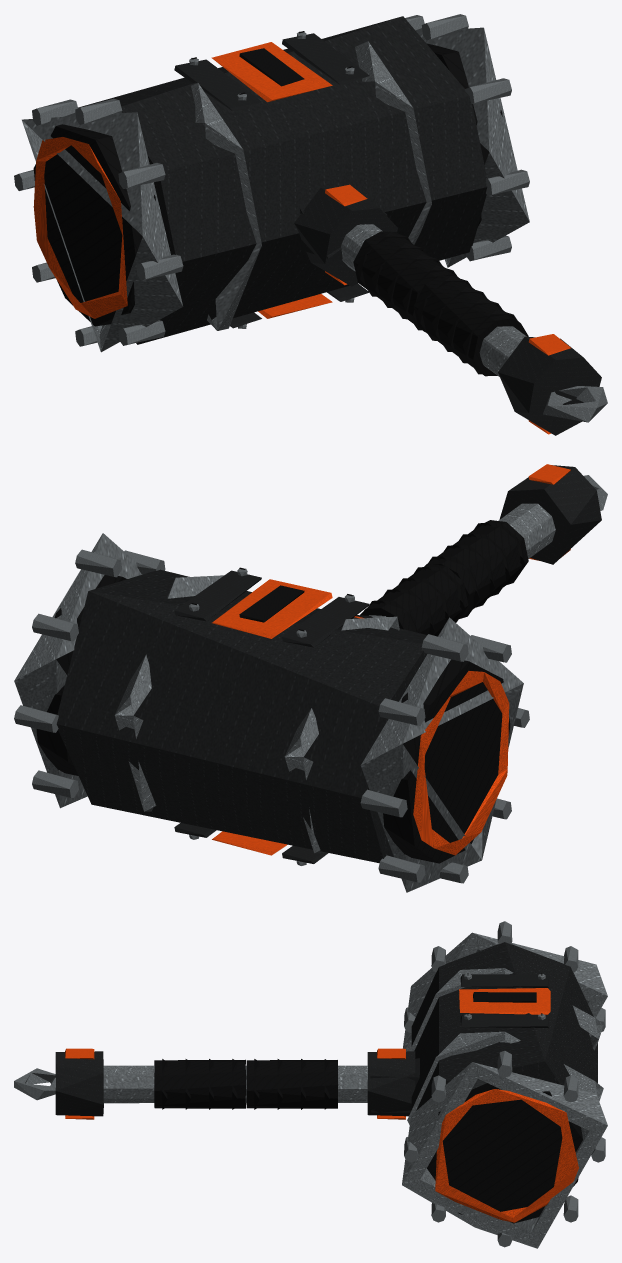
The model's file is impulse-hammer-short-grip-lod2.glb.
3 renders of one model, top to bottom at view 1: azimuth 30°, elevation 25°; view 2: azimuth 150°, elevation 25°; view 3: azimuth 270°, elevation 25°, orthographic. The views are drawn at different scales.
Parts seen in each view (by area): view 1: Octagonal impulse housing, Recessed striking plate, Heavy endcap steel cage, Heavy endcap steel cage.001, Locking haft joint, Rubber impact grip sleeve, Locking haft joint.001, Endcap orange indicator lip, Rubber impact grip sleeve.001, Steel housing compression band, Steel housing compression band.001, Central orange service panel.001 (+16 smaller); view 2: Octagonal impulse housing, Recessed striking plate, Heavy endcap steel cage, Heavy endcap steel cage.001, Locking haft joint, Endcap orange indicator lip, Rubber impact grip sleeve, Rubber impact grip sleeve.001, Steel housing compression band.001, Central orange service panel.001, Steel housing compression band, Dark service access cover.003 (+14 smaller); view 3: Octagonal impulse housing, Recessed striking plate.001, Heavy endcap steel cage.001, Endcap orange indicator lip.001, Rubber impact grip sleeve, Rubber impact grip sleeve.001, Machined central haft, Heavy endcap steel cage, Locking haft joint, Locking haft joint.001, Steel housing compression band.001, Central orange service panel.001 (+5 smaller).
Boxes of the visible parts, x1,y1,x2,y2 form: Octagonal impulse housing: (78,16,487,344); Recessed striking plate: (33,124,155,326); Heavy endcap steel cage: (22,112,182,352); Heavy endcap steel cage.001: (417,27,529,267); Locking haft joint: (498,336,601,435); Rubber impact grip sleeve: (413,275,528,376); Locking haft joint.001: (294,187,397,286); Endcap orange indicator lip: (33,137,127,318); Rubber impact grip sleeve.001: (353,231,456,331); Steel housing compression band: (191,83,261,330); Steel housing compression band.001: (355,41,431,244); Central orange service panel.001: (211,42,332,102); Octagonal impulse housing: (56,569,427,863); Recessed striking plate: (383,659,510,863); Heavy endcap steel cage: (360,617,523,892); Heavy endcap steel cage.001: (14,533,142,808); Locking haft joint: (499,465,601,564); Endcap orange indicator lip: (413,671,509,855); Rubber impact grip sleeve: (424,520,528,617); Rubber impact grip sleeve.001: (360,564,468,636); Steel housing compression band.001: (114,575,223,811); Central orange service panel.001: (212,579,332,638); Steel housing compression band: (284,616,399,853); Dark service access cover.003: (174,570,261,621); Octagonal impulse housing: (411,942,597,1110); Recessed striking plate.001: (427,1083,582,1223); Heavy endcap steel cage.001: (402,1062,607,1248); Endcap orange indicator lip.001: (435,1089,578,1222); Rubber impact grip sleeve: (154,1059,245,1108); Rubber impact grip sleeve.001: (246,1060,338,1108); Machined central haft: (103,1065,367,1103); Heavy endcap steel cage: (403,932,607,1051); Locking haft joint: (55,1051,103,1116); Locking haft joint.001: (367,1051,415,1116); Steel housing compression band.001: (407,1031,603,1124); Central orange service panel.001: (459,988,550,1014).
Size of the model in its own units: 0.4813 by 0.2909 by 0.8381.
Materials: 4 (4 with a texture image).
